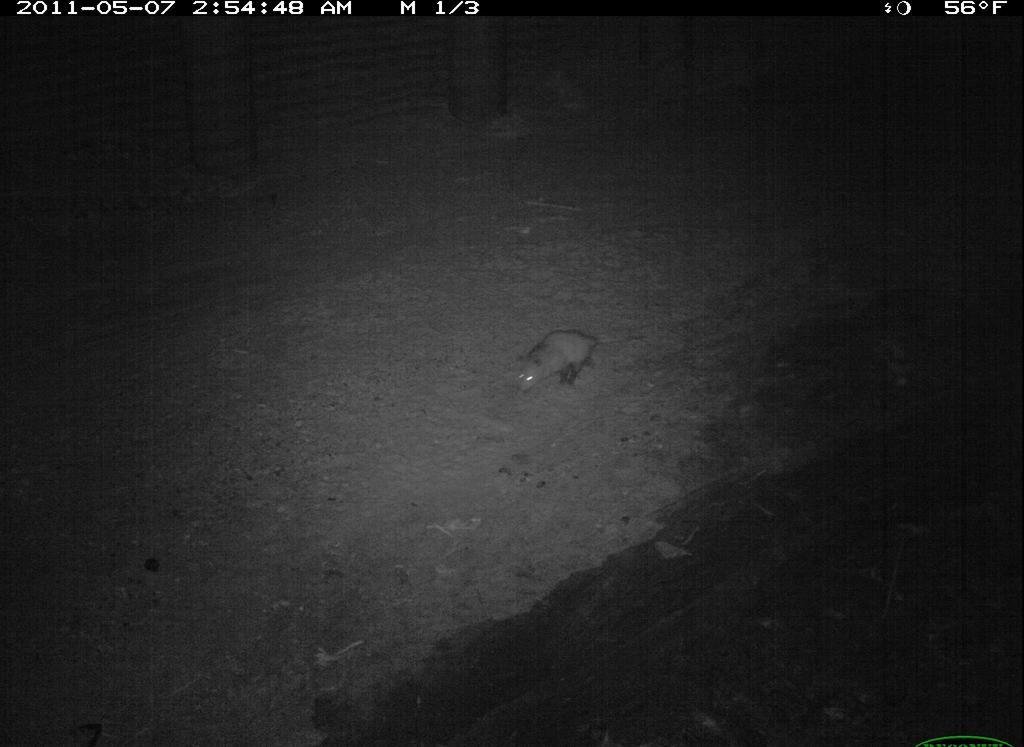opossum: (506, 315, 646, 400)
